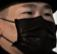with_mask: (1, 2, 57, 54)
